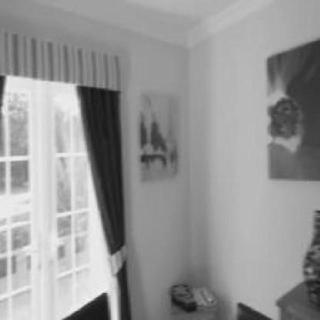other: (257, 47, 317, 182)
